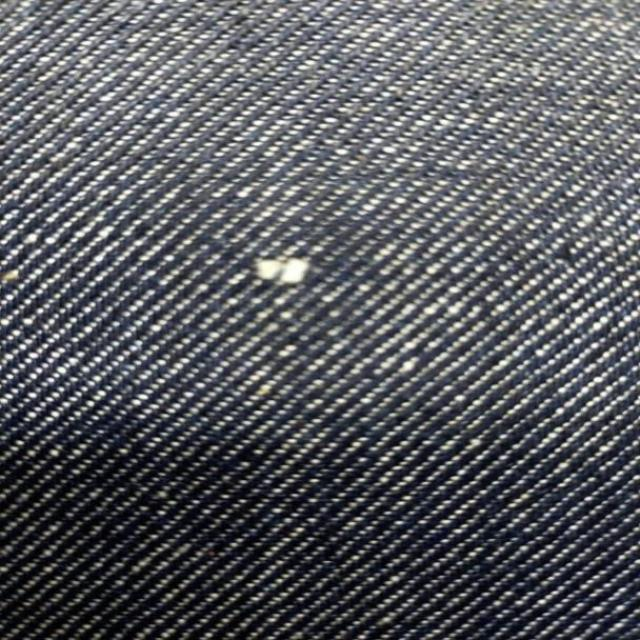Knot: (256, 260, 309, 284)
